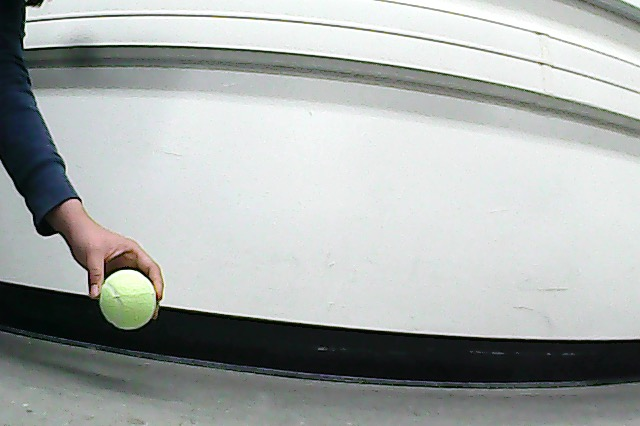ball: (96, 267, 161, 333)
